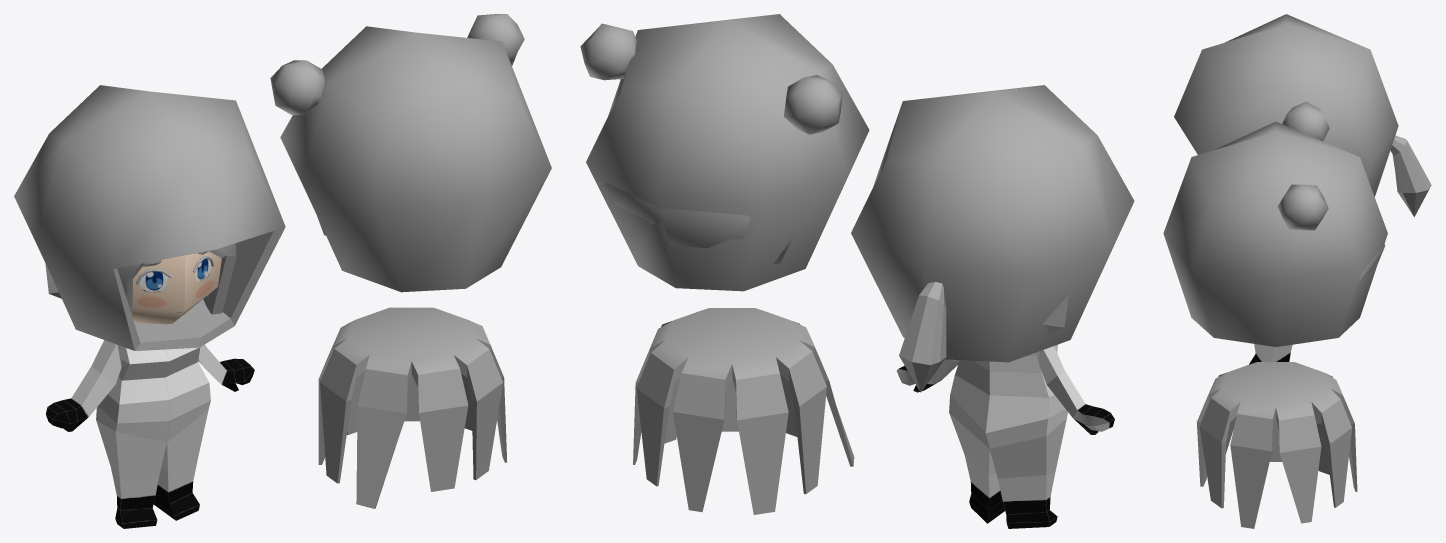
File: Male Body with Spacesuit.fbx
3 views of the same model, side by side, from view 1: azimuth 30°, elevation 25°; view 2: azimuth 150°, elevation 25°; view 3: azimuth 270°, elevation 25° (orthographic). The views are drawn at different scales.
Parts seen in each view (by area): view 1: pCube11, pCube12, pCylinder5, pCube1, pCube9, pCube3; view 2: pCube12, pCube11, pCylinder5, pCube1, pCube9, pCube3, pCube6; view 3: pCube11, pCube12, pCylinder5, pCube9, pCube3, pCube1.
Boxes of the visible parts, x1,y1,x2,y2 form: pCube11: (280,26,551,292); pCube12: (14,85,285,350); pCylinder5: (318,307,507,508); pCube1: (46,251,254,528); pCube9: (270,14,524,114); pCube3: (45,243,236,316); pCube12: (851,85,1134,362); pCube11: (586,14,869,291); pCylinder5: (633,308,854,514); pCube1: (896,344,1114,528); pCube9: (580,23,842,134); pCube3: (899,282,1068,392); pCube6: (604,182,792,264); pCube11: (1163,121,1387,346); pCube12: (1174,14,1398,196); pCylinder5: (1196,362,1357,528); pCube9: (1277,101,1329,230); pCube3: (1390,135,1431,216); pCube1: (1249,344,1292,364).
Bounding box in the file's own units: 10.99 × 9.22 × 6.09.
2 materials, 1 textured.
